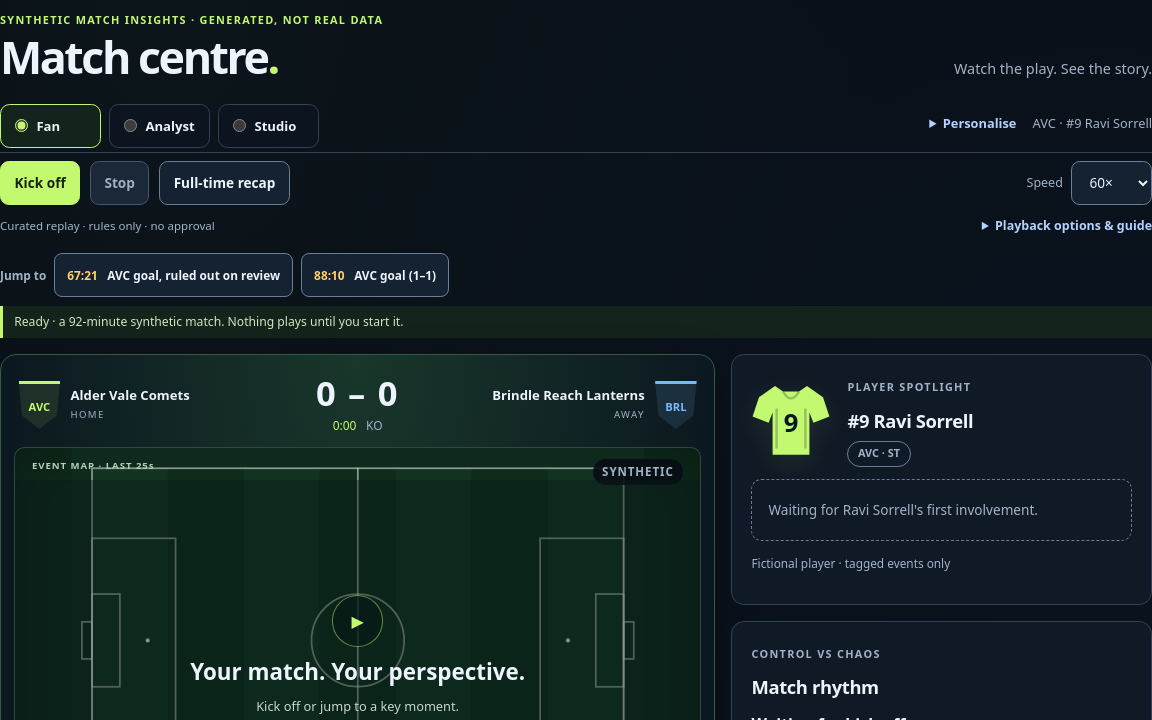
Preview mode is unchanged and says what it is › opens in Preview with no approval interface and a label that says the cues are not operator-approved
The width and height of the screenshot is (1152, 720).
Expected: the element with test id "scorebug" is shown, [14,368,702,447]
Step 1. Click the heading "Personalise AVC · #9 Ravi Sorrell" → (1047, 123), box [943,114,1151,132]
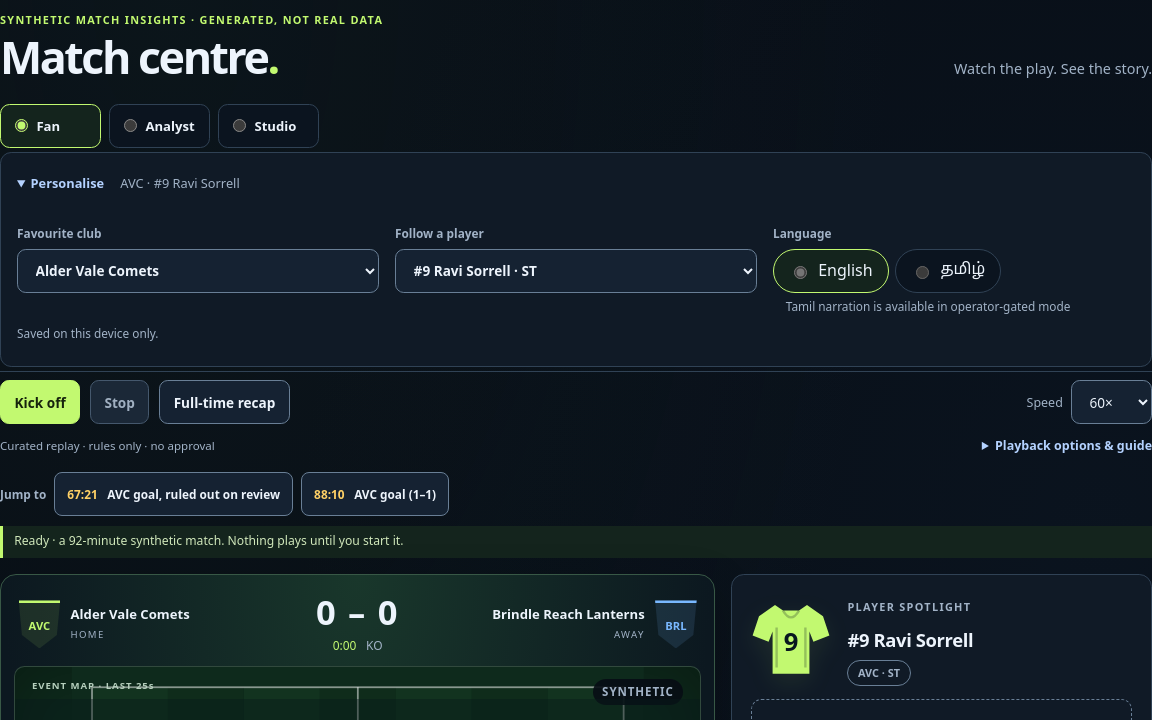
Step 2. Click the heading "Playback options & guide" → (1074, 445), box [995,436,1151,454]
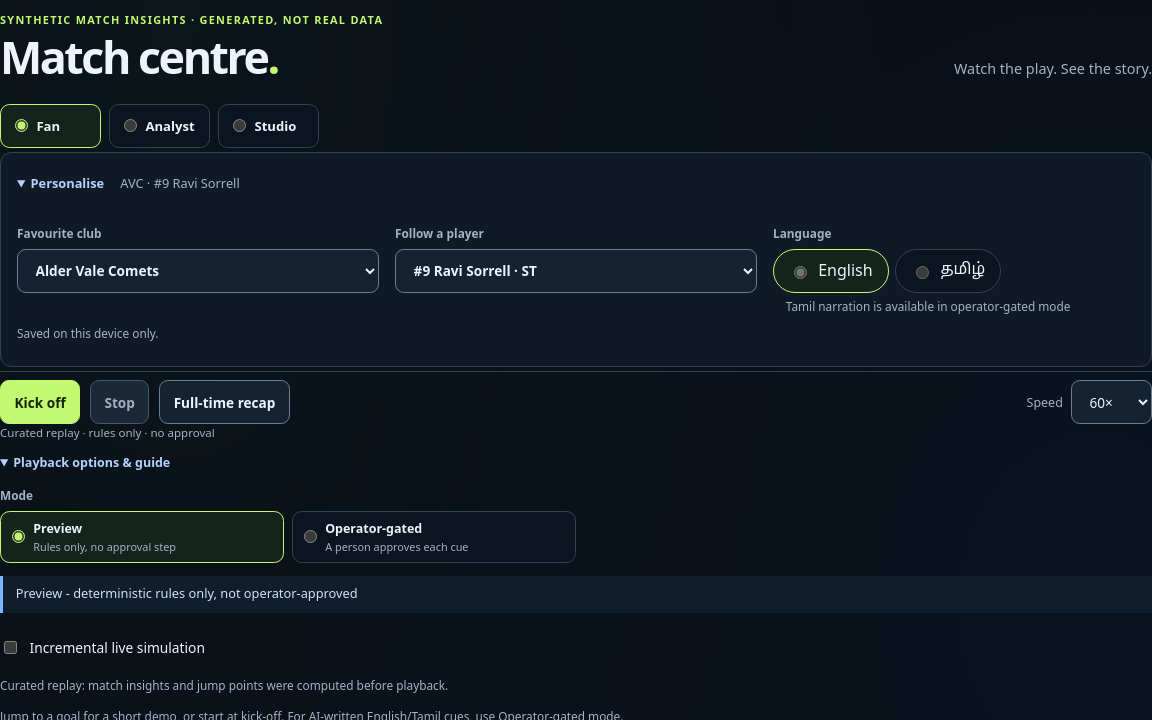
Expected: the radio button labelled "Preview Rules only, no approval step" is checked, [12,530,25,543]
Expected: the radio button labelled "Operator-gated A person approves each cue" is not checked, [304,530,317,543]
Expected: the text with test id "mode-note" reads "Preview - deterministic rules only, not operator-approved", [16,584,358,602]
Step 3. Click the button "Kick off" → (40, 402), box [0,380,80,424]
(page scrolled)
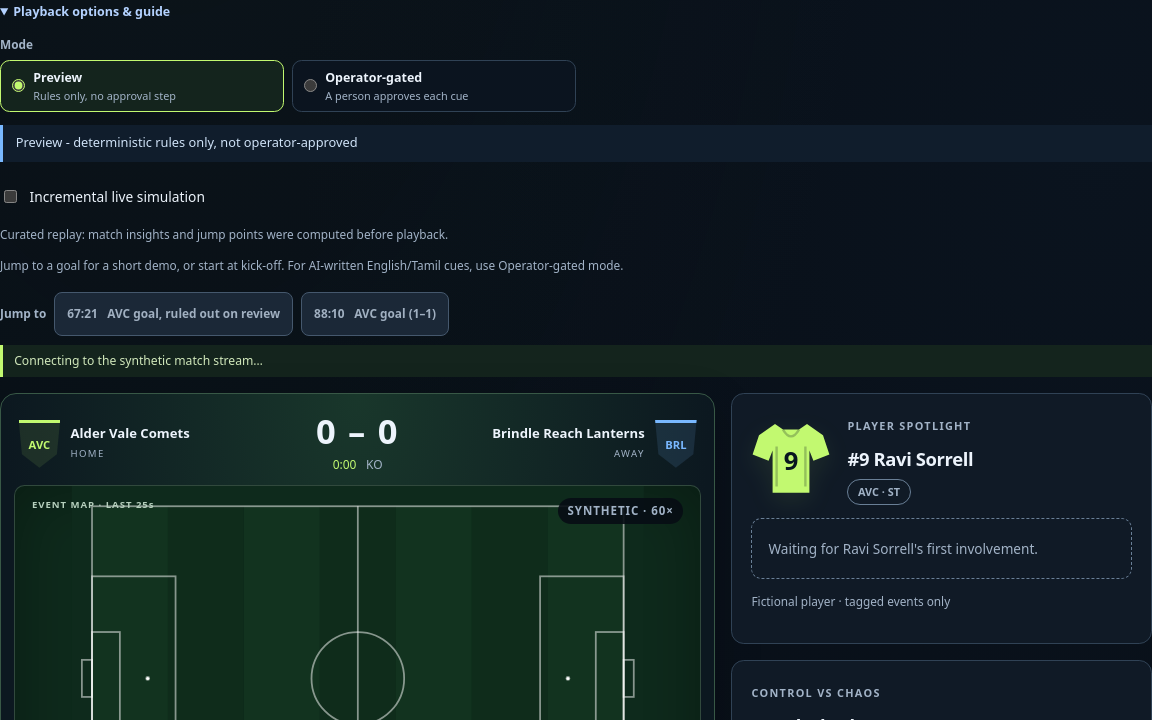
Expected: the message with test id "match-status" reads "Connecting to the synthetic match stream…", [14,352,263,368]
